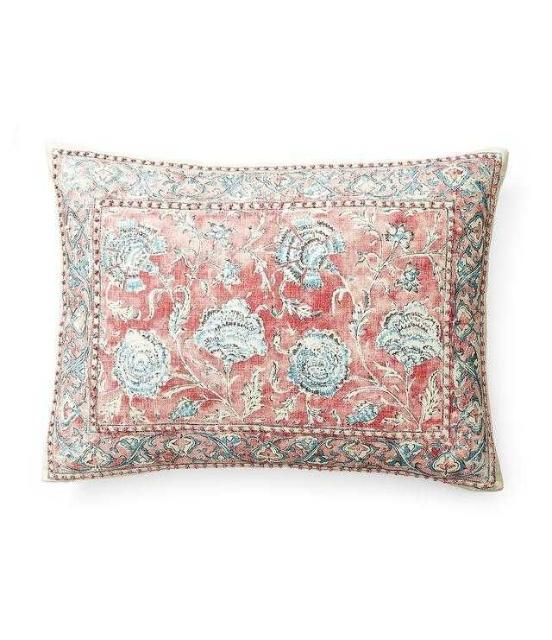pillow: (44, 146, 508, 490)
